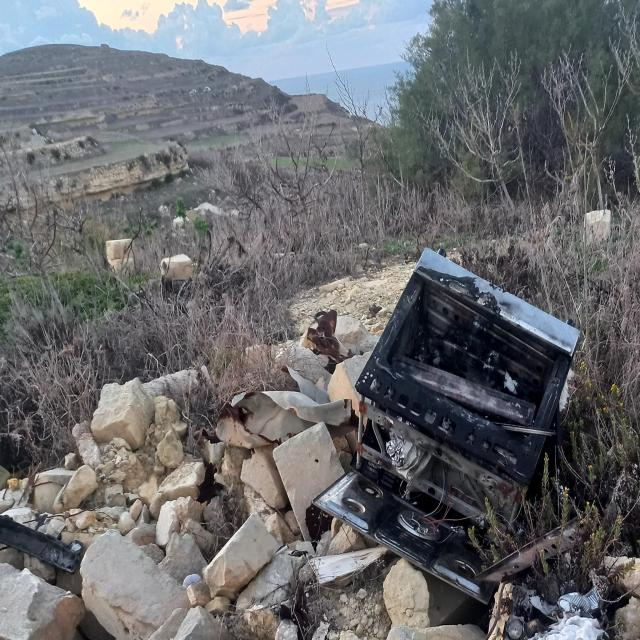Other litter: (303, 244, 618, 640), (195, 310, 365, 503), (0, 512, 84, 576)
Other plastic: (182, 573, 202, 587)
